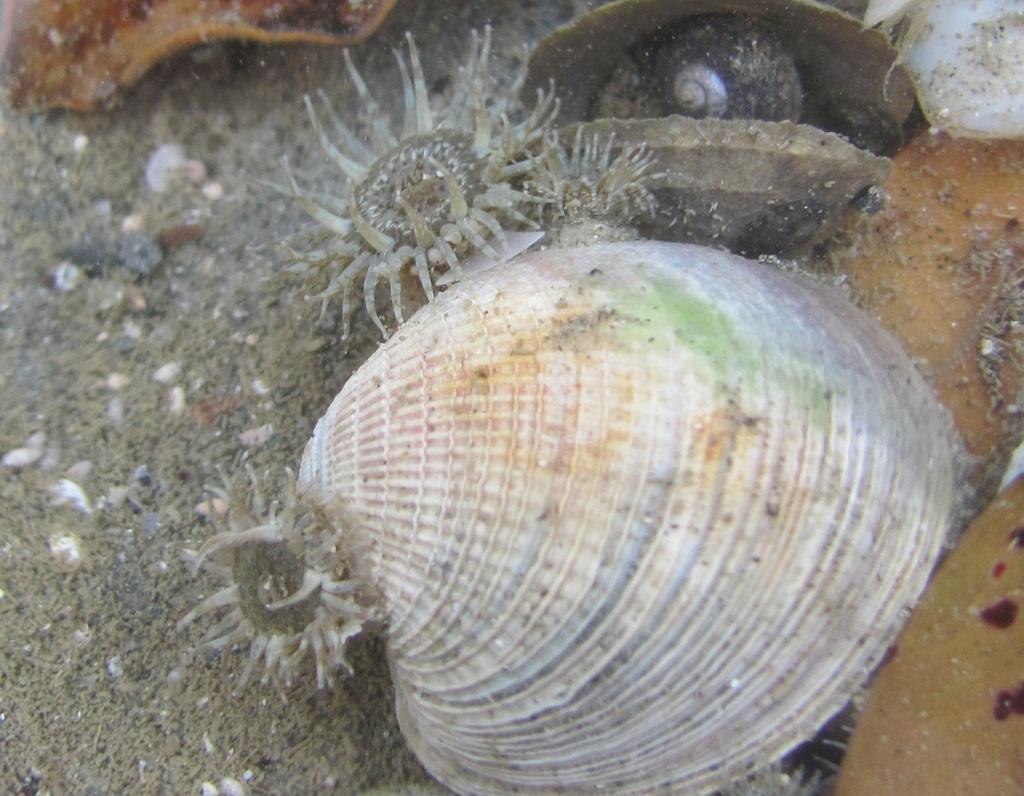cockle: (286, 239, 962, 793)
